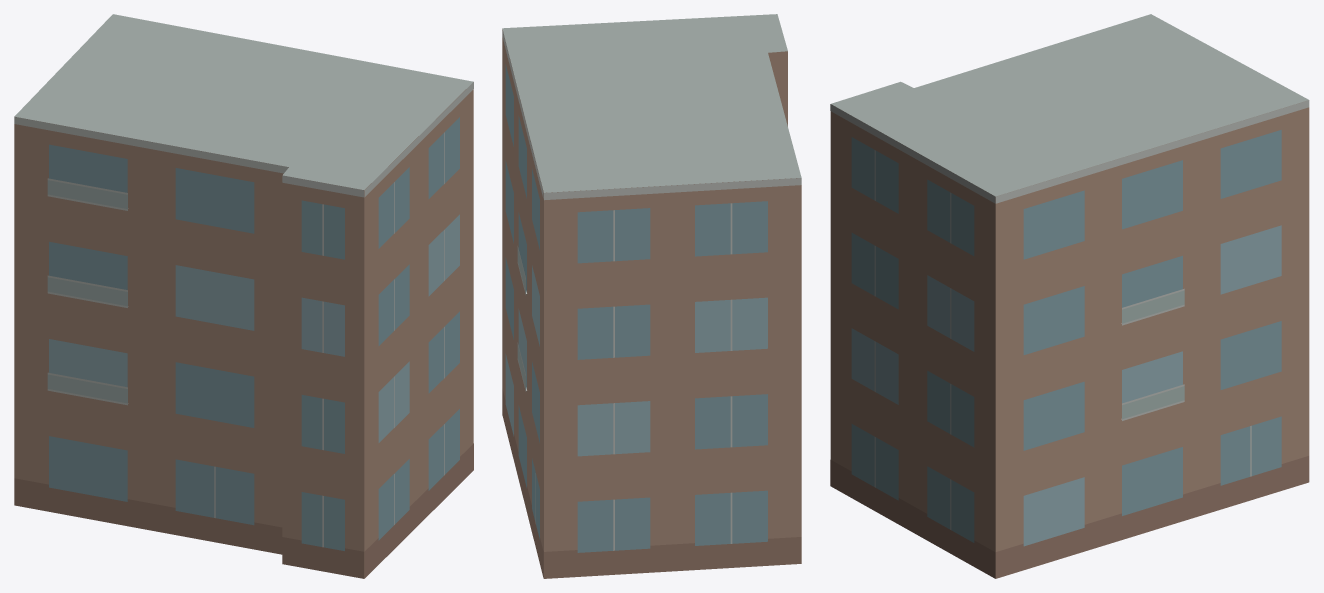
File: survey-upis-32822338.glb
3 renders of one model, left to right at view 1: azimuth 30°, elevation 25°; view 2: azimuth 150°, elevation 25°; view 3: azimuth 270°, elevation 25°, orthographic.
Parts seen in each view (by area): view 1: survey-upis-32822338.tmp; view 2: survey-upis-32822338.tmp; view 3: survey-upis-32822338.tmp.
Part boxes in pixels (x1,y1,x2,y2): survey-upis-32822338.tmp: [14, 14, 473, 578]; survey-upis-32822338.tmp: [502, 14, 801, 578]; survey-upis-32822338.tmp: [830, 14, 1309, 578].
Bounding box in the file's own units: 13.22 × 12.9 × 14.65.
